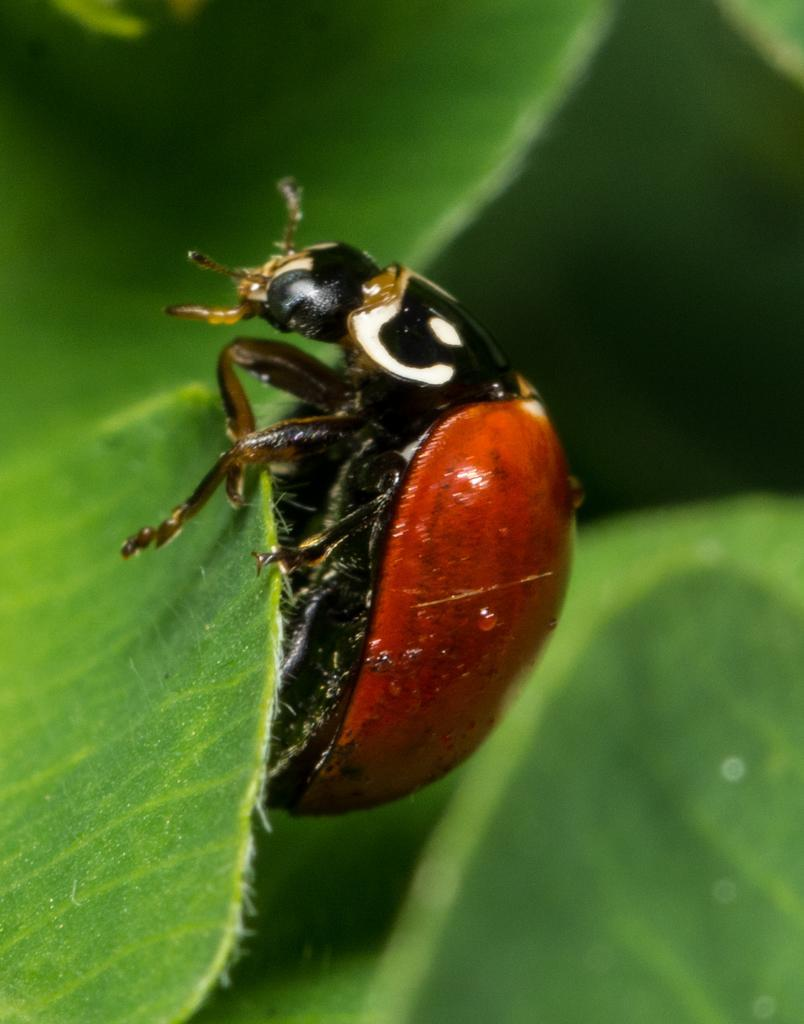ladybug: (119, 166, 594, 819)
